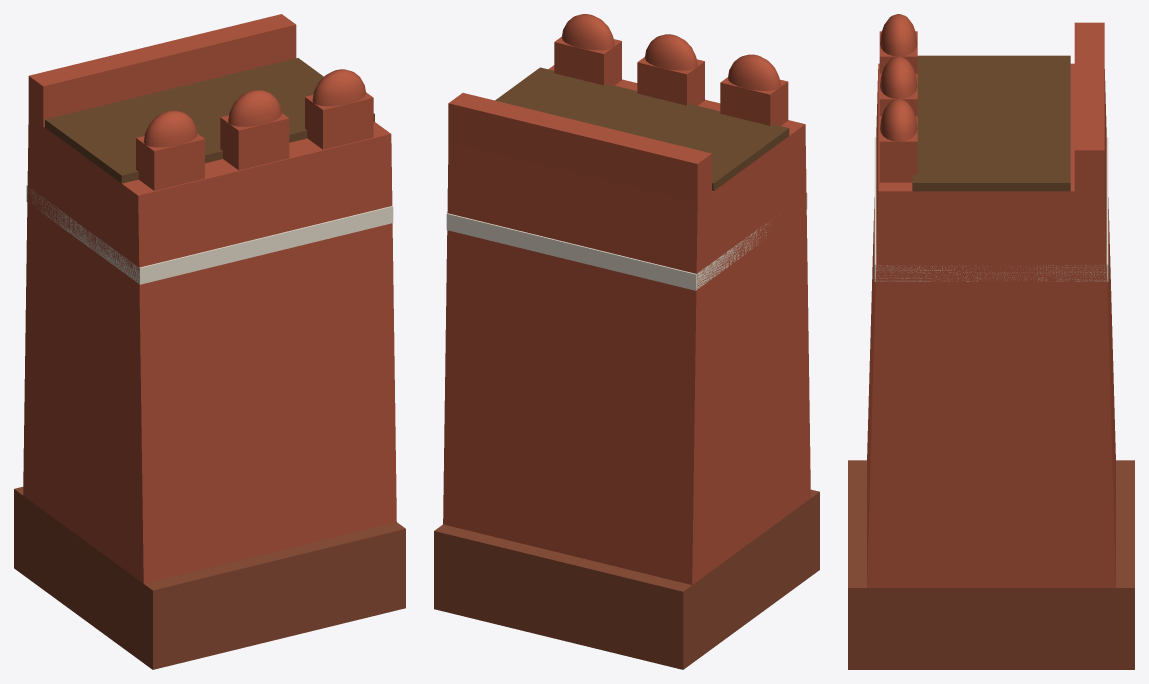
Rendered from wall.glb.
3 renders of one model, left to right at view 1: azimuth 30°, elevation 25°; view 2: azimuth 150°, elevation 25°; view 3: azimuth 270°, elevation 25°, orthographic. The views are drawn at different scales.
Parts seen in each view (by area): view 1: Wall; view 2: Wall; view 3: Wall.
Boxes of the visible parts, x1,y1,x2,y2 form: Wall: [14, 14, 405, 669]; Wall: [434, 14, 819, 669]; Wall: [848, 14, 1134, 669].
Size of the model in its own units: 4 by 8 by 3.8.
